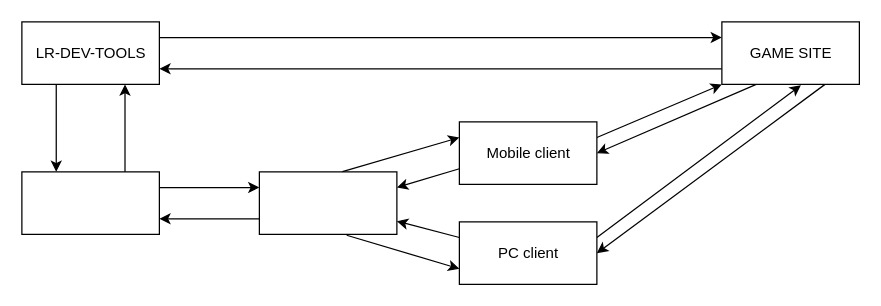
This 881x306 diagram has some shape labels left out. The shapes that lost their labels are listed below. From the top down, each one's centre as x and y in pixels, then its label:
(90,202): LR API
(327,202): GAME SERVER
